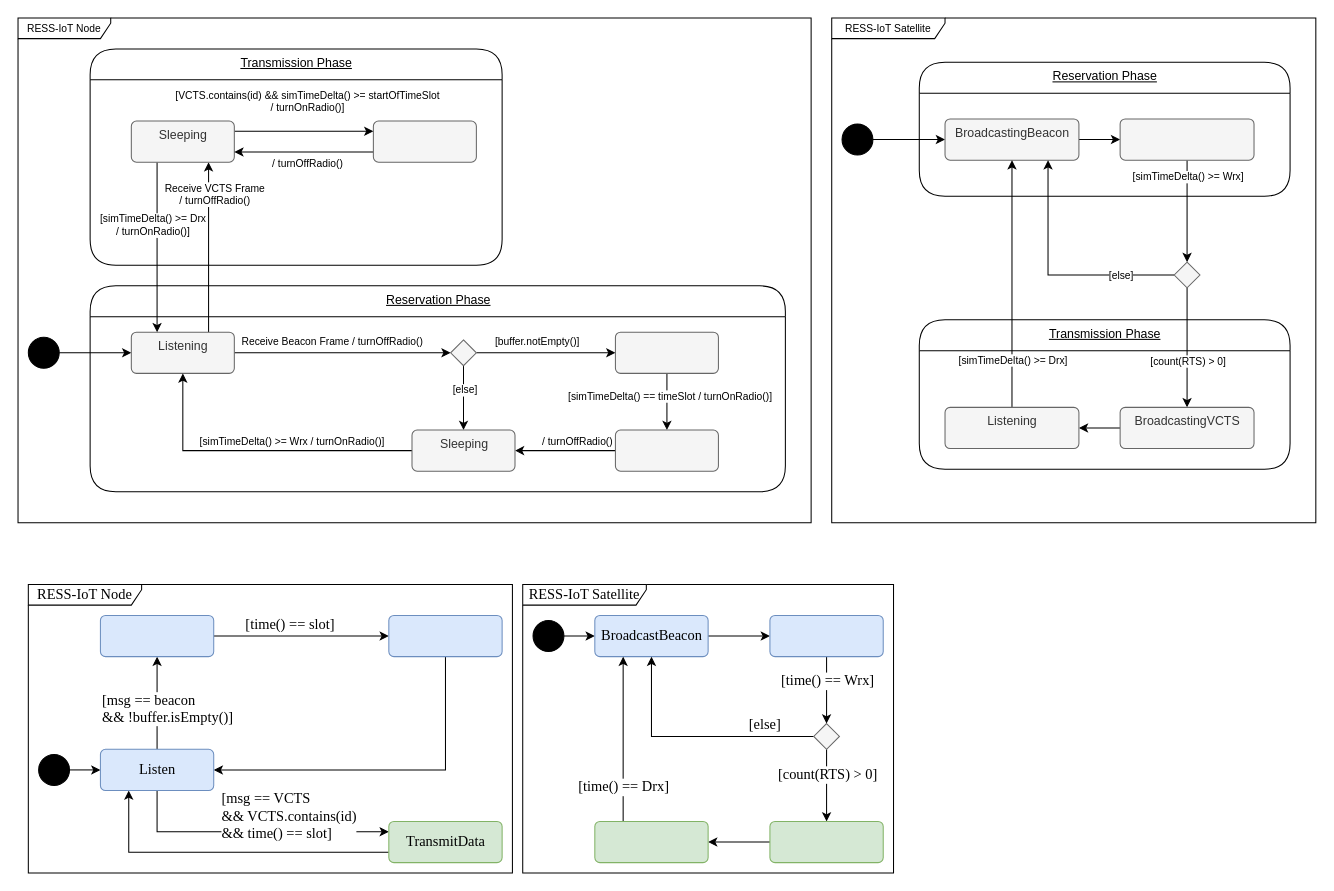
The diagram is 1334 pixels wide and 891 high, and some of its shapes have lost their labels. The box of each missing label's shape, as (x1, y1, x2, y2) in pixels:
BroadcastVCTS: (769, 820, 883, 863)
ListenData: (594, 820, 708, 863)
ListeningRTS: (1119, 118, 1254, 160)
ListenRTS: (769, 614, 883, 657)
Reserve: (99, 614, 214, 657)
Reserving: (614, 331, 718, 373)
TransmitRTS: (388, 614, 502, 657)
Transmitting: (372, 120, 476, 162)
TransmittingRTS: (614, 429, 718, 471)
